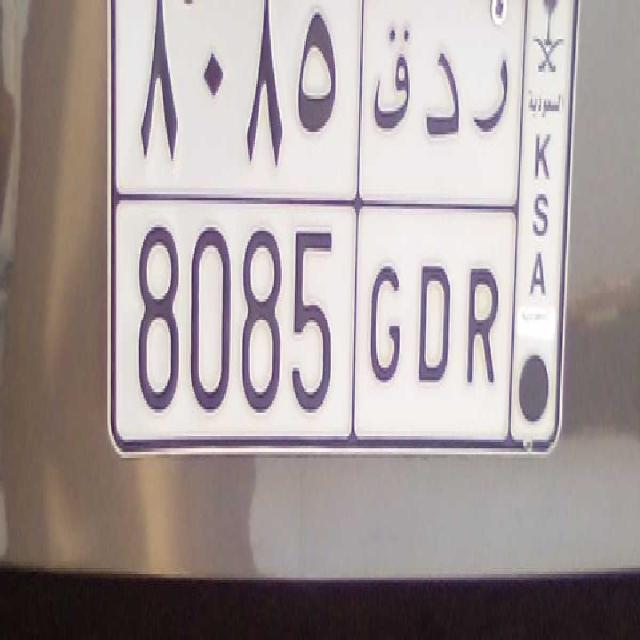license_plate: (129, 193, 503, 430)
